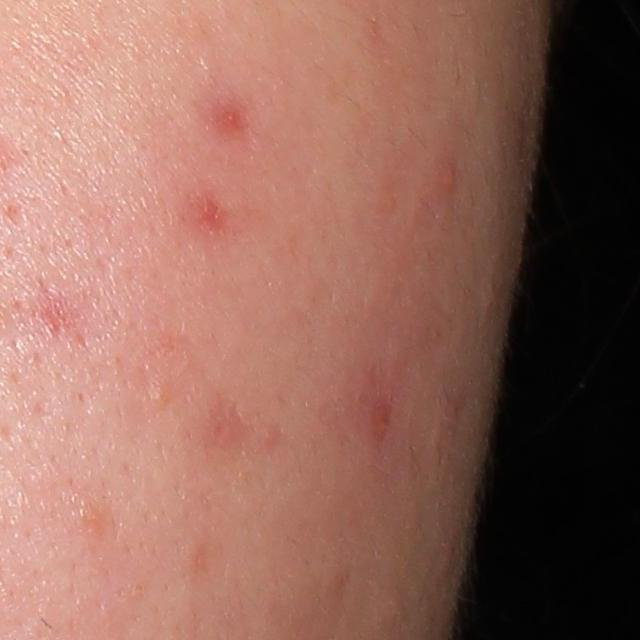comedo: (147, 375, 170, 406)
papule: (435, 159, 470, 199)
